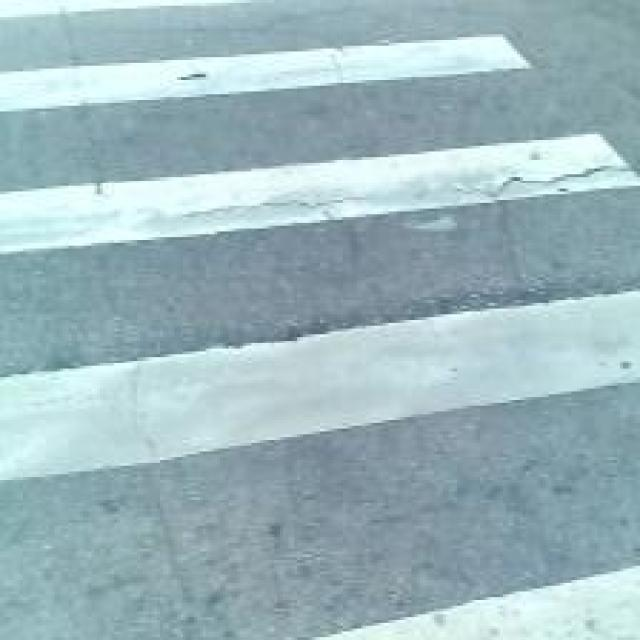zebra: (2, 54, 638, 640)
